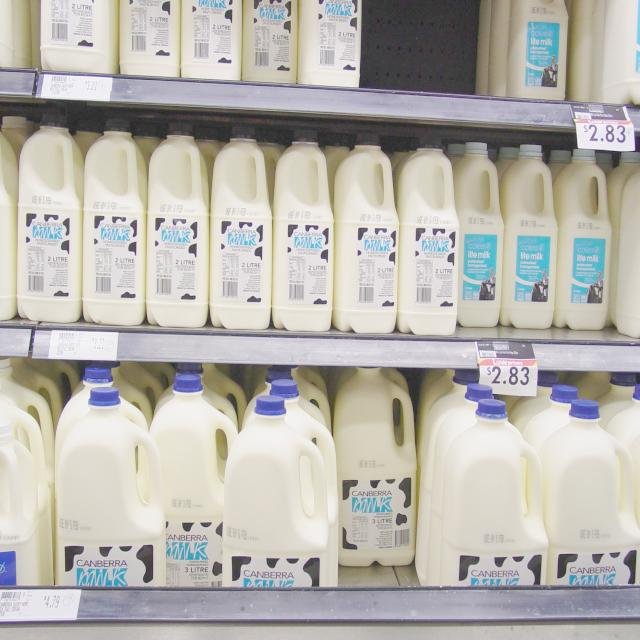empty_space: (368, 3, 478, 85), (345, 564, 415, 600)
